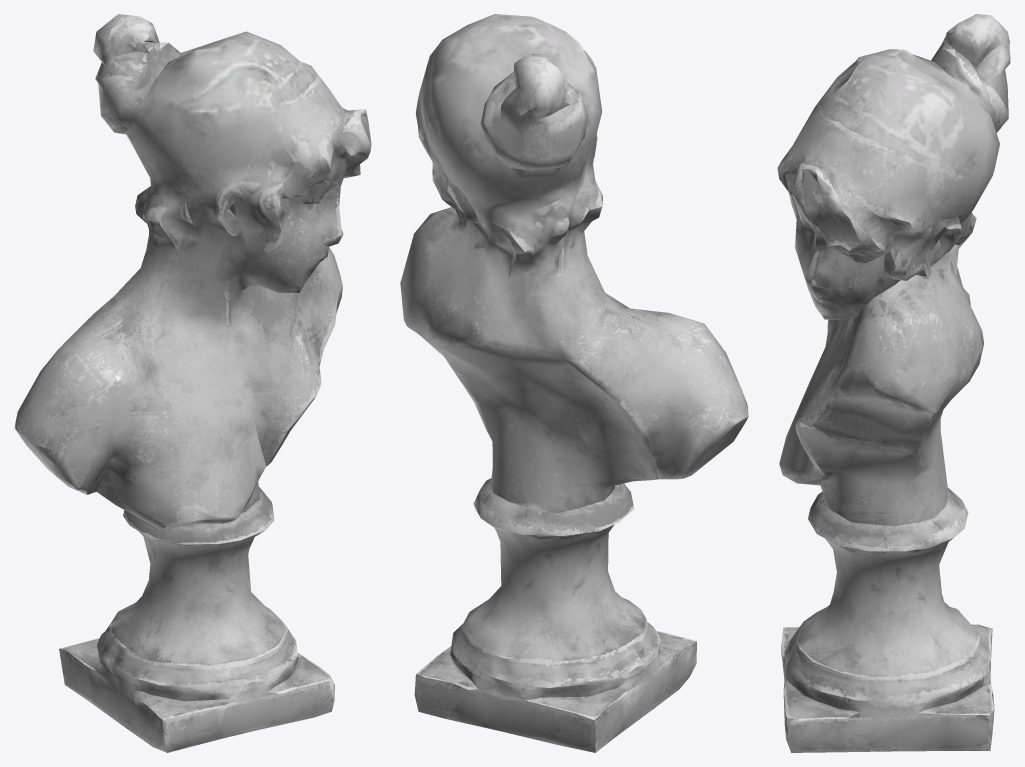
File: SM_Bust_Of_Sappho.glb
3 renders of one model, left to right at view 1: azimuth 30°, elevation 25°; view 2: azimuth 150°, elevation 25°; view 3: azimuth 270°, elevation 25°, orthographic. The views are drawn at different scales.
Parts seen in each view (by area): view 1: SM_Bust_Of_Sappho; view 2: SM_Bust_Of_Sappho; view 3: SM_Bust_Of_Sappho.
Part boxes in pixels (box(x1,y1,x2,y2)): SM_Bust_Of_Sappho: box(14, 14, 371, 752); SM_Bust_Of_Sappho: box(400, 14, 748, 752); SM_Bust_Of_Sappho: box(777, 14, 1010, 752).
Size of the model in its own units: 0.3727 by 0.7198 by 0.2235.
1 material, 1 textured.
